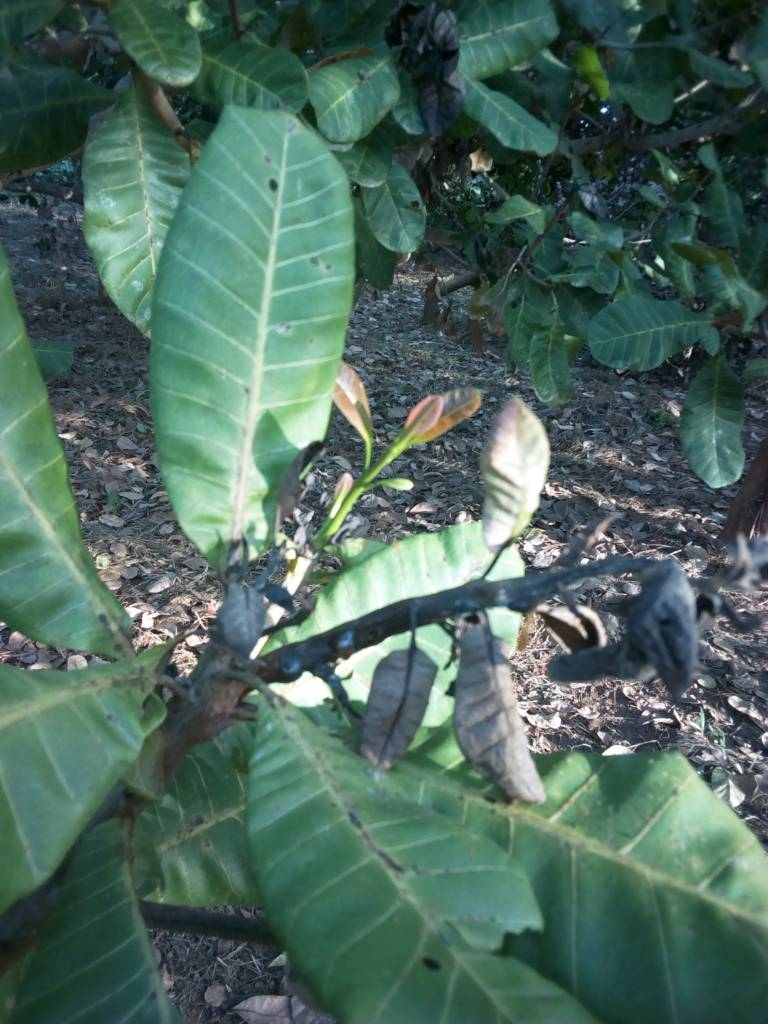Dessèchement des bourgeons: (611, 559, 709, 691)
